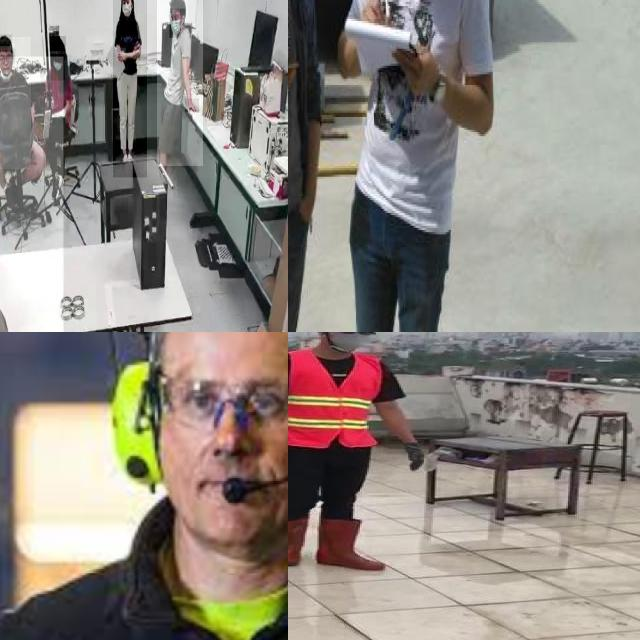Ear-protection: (105, 332, 288, 570)
boots: (315, 516, 385, 572), (288, 515, 307, 568)
face_mask: (51, 54, 65, 80), (170, 11, 182, 39), (121, 0, 131, 18)
face_nomask: (0, 50, 12, 73)
hand_noglove: (185, 99, 199, 112), (115, 48, 126, 62), (132, 39, 142, 51)
head_nohelmet: (50, 36, 66, 52), (168, 0, 186, 9), (0, 34, 13, 46)
person: (288, 332, 436, 577), (0, 56, 64, 332), (156, 0, 203, 166), (112, 0, 147, 178), (0, 36, 30, 169)
vest: (288, 347, 385, 447)
